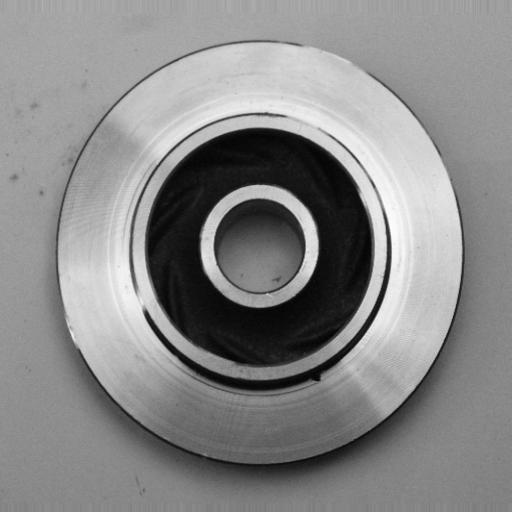crack: (304, 363, 332, 388)
scratch: (119, 272, 160, 333)
unpolished_casting: (52, 35, 463, 471)
